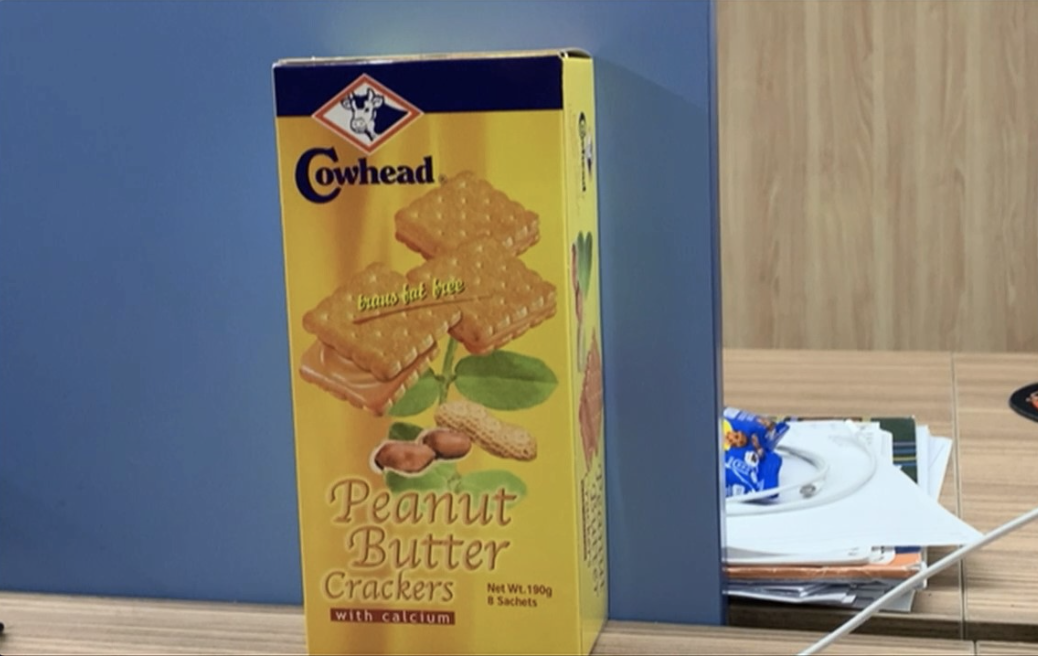crackers_100g-199g: (294, 86, 589, 633)
